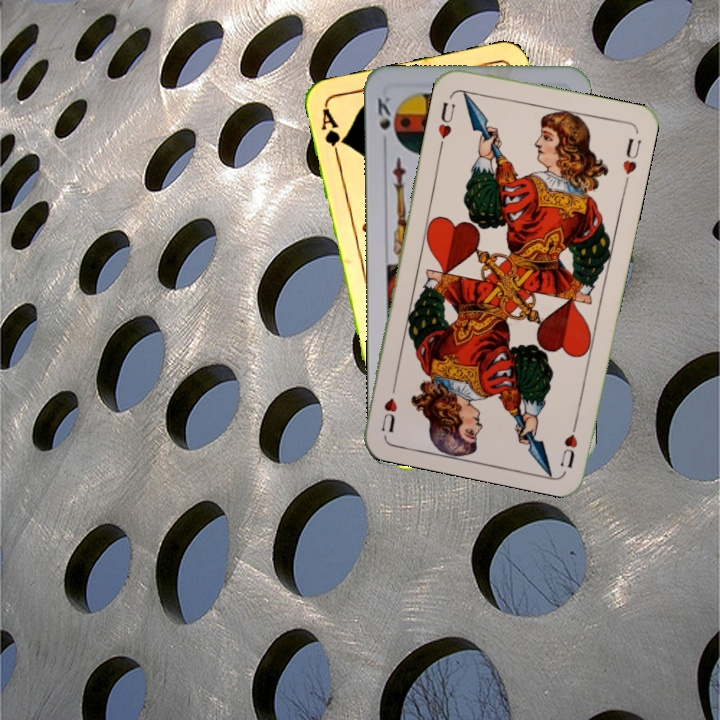GA: (317, 103, 348, 162)
HU: (556, 413, 582, 471), (434, 98, 458, 150)
SK: (373, 92, 394, 133)
